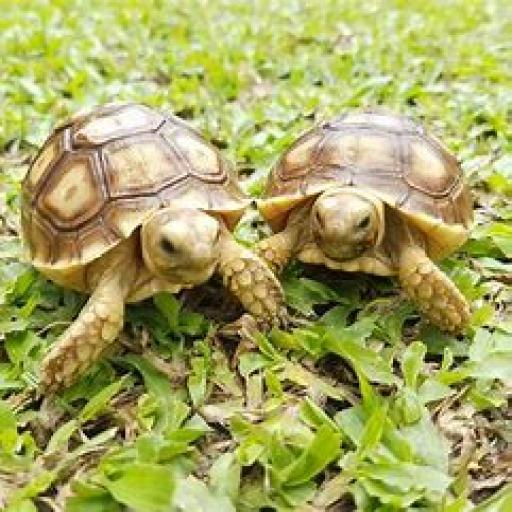turtle: (15, 90, 292, 396), (242, 90, 475, 327)
